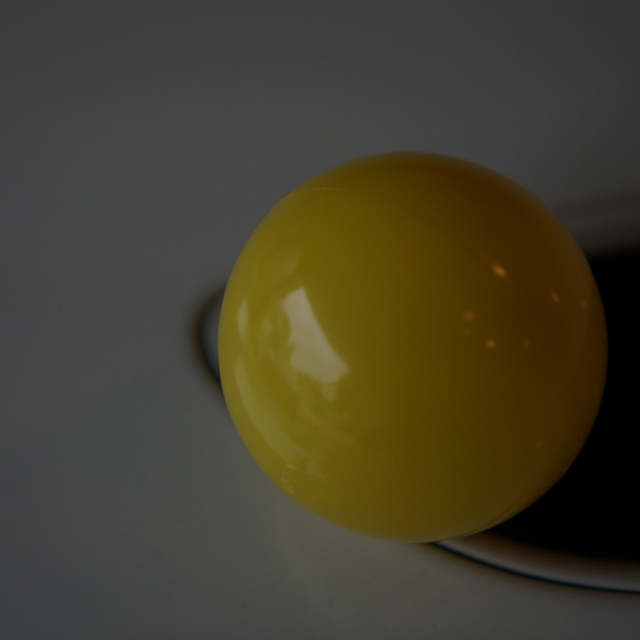Ball: (210, 154, 605, 545)
